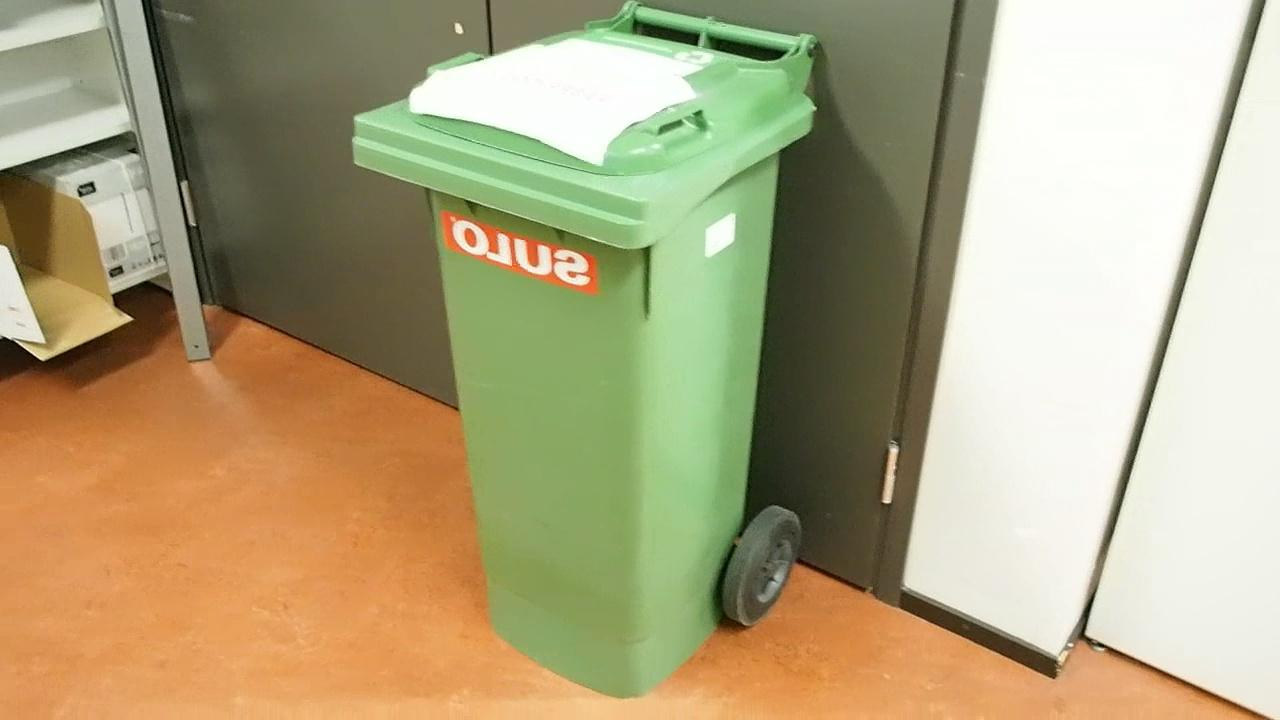trashbin: (348, 1, 832, 707)
